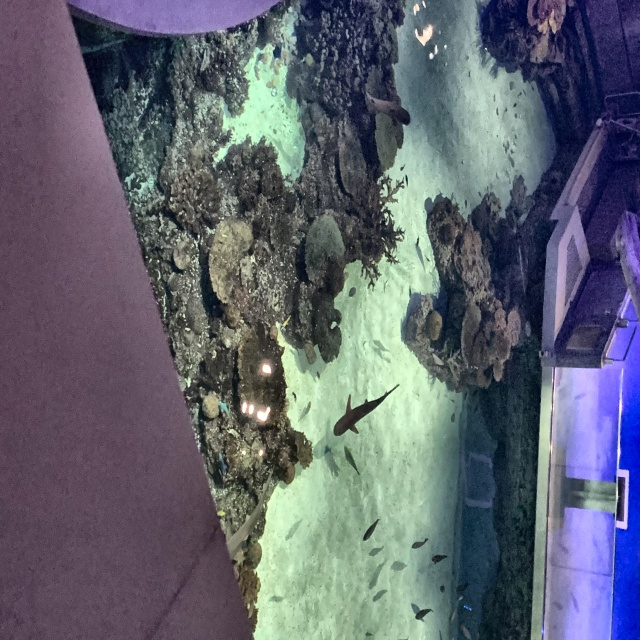fish: (341, 443, 360, 476), (362, 516, 379, 542), (412, 605, 433, 624), (429, 550, 450, 567), (410, 537, 430, 551)
shark: (332, 383, 400, 439)
